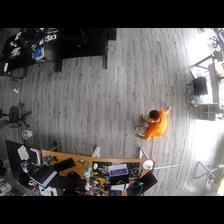fall: (133, 105, 170, 142)
